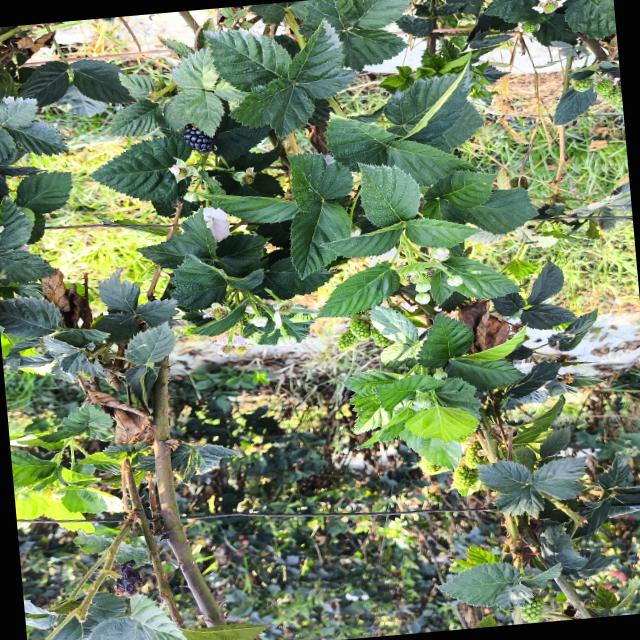boton: (253, 314, 312, 346), (415, 274, 430, 292), (430, 247, 450, 260), (249, 315, 268, 327), (182, 191, 199, 203), (415, 292, 430, 304), (448, 274, 463, 286)
maduro: (183, 123, 216, 152)
verde: (594, 78, 622, 105), (452, 465, 477, 489), (464, 442, 486, 468), (417, 457, 446, 475), (350, 318, 371, 340), (338, 330, 358, 350), (371, 327, 391, 346), (573, 78, 592, 92)
